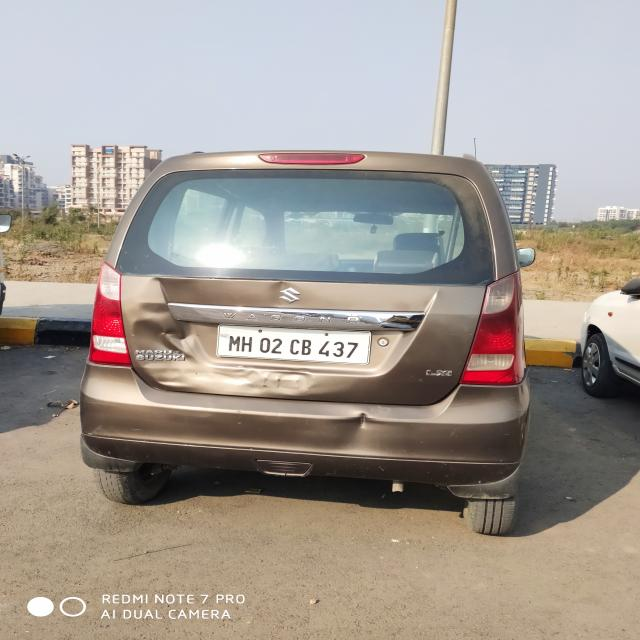Number-Plate: (214, 326, 370, 364)
